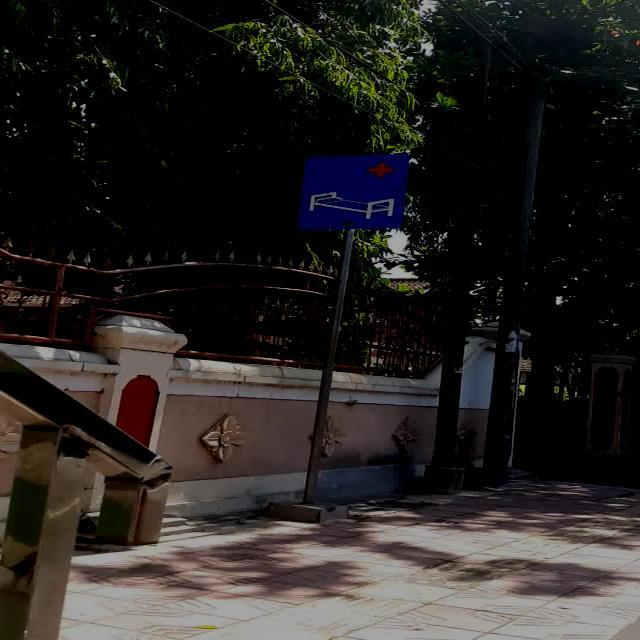Rumah Sakit: (298, 154, 408, 230)
